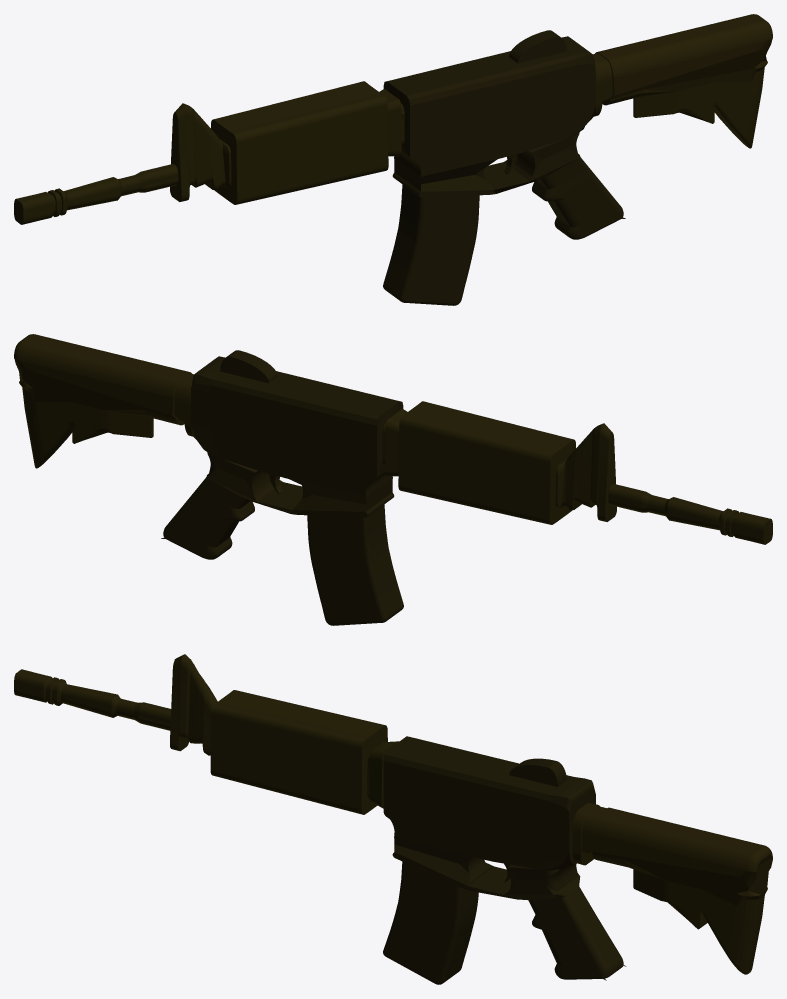
The picture shows the model from 3 angles, top to bottom: view 1: azimuth 30°, elevation 25°; view 2: azimuth 150°, elevation 25°; view 3: azimuth 330°, elevation 25°; orthographic projection.
Visible parts, largest first — view 1: Body, Barrel, ShoulderRest; view 2: Body, Barrel, ShoulderRest; view 3: Body, Barrel, ShoulderRest.
Boxes of the visible parts, x1,y1,x2,y2 form: Body: (383,30,625,305); Barrel: (14,81,404,224); ShoulderRest: (593,14,772,148); Body: (161,350,403,625); Barrel: (382,401,772,544); ShoulderRest: (14,334,193,468); Body: (383,736,626,984); Barrel: (14,654,399,814); ShoulderRest: (572,802,772,974).
Size of the model in its own units: 494 by 164 by 30.78.
